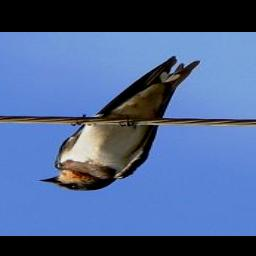Swallow: (37, 57, 201, 192)
